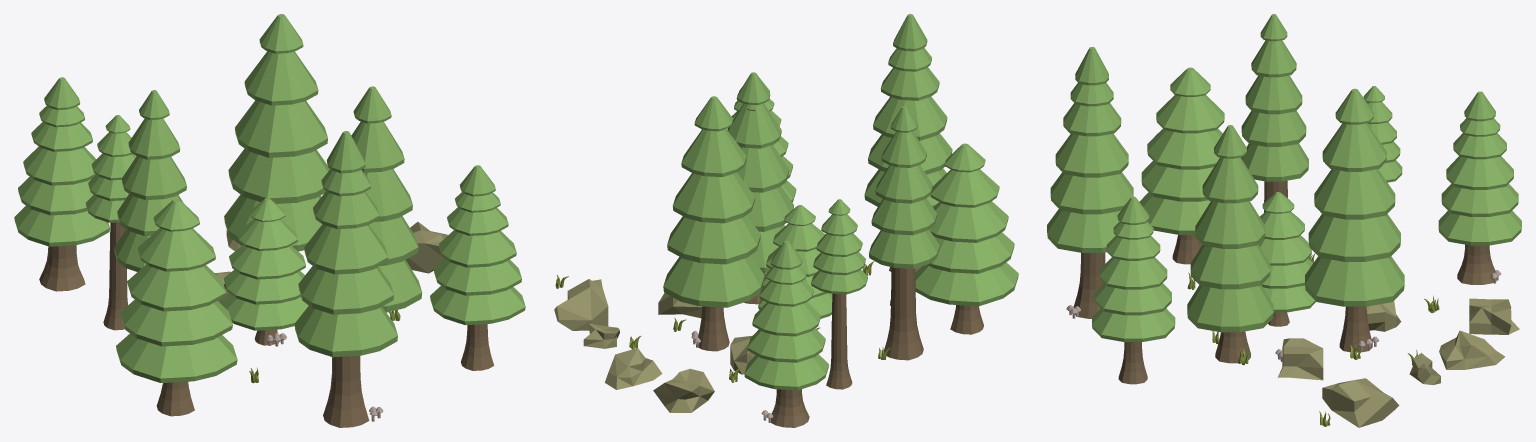
The model's file is ForrestA.fbx.
3 views of the same model, side by side, from view 1: azimuth 30°, elevation 25°; view 2: azimuth 150°, elevation 25°; view 3: azimuth 270°, elevation 25° (orthographic). The views are drawn at different scales.
Parts seen in each view (by area): view 1: ForrestC; view 2: ForrestC; view 3: ForrestC.
Boxes of the visible parts, x1=… form: ForrestC: x1=14, y1=14, x2=525, y2=427; ForrestC: x1=554, y1=14, x2=1018, y2=427; ForrestC: x1=1047, y1=14, x2=1521, y2=427.
Bounding box in the file's own units: 4540 × 2856 × 4638.
